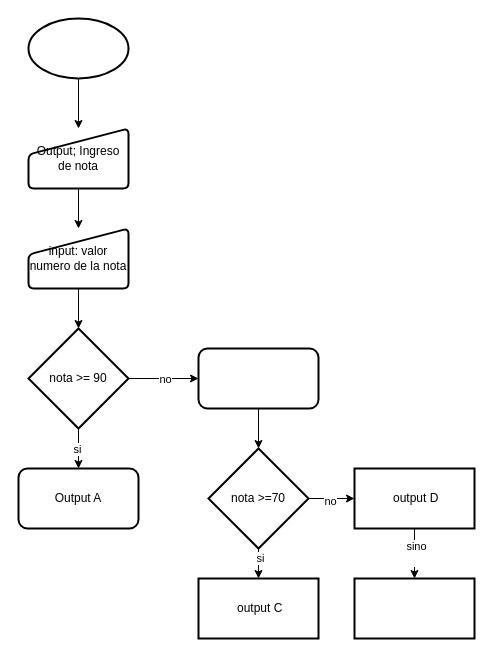
This 492x656 diagram has some shape labels left out. The shapes that lost their labels are listed below. From the top down, each one's box as (x1, y1, x2, y2) in pixels, then its label:
(27, 17, 129, 79): Inicio
(197, 347, 319, 409): output B
(353, 577, 475, 639): output F
